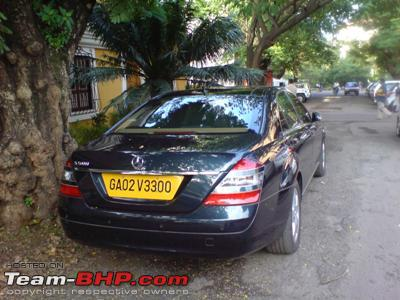car: (56, 84, 330, 261), (342, 81, 362, 100)
